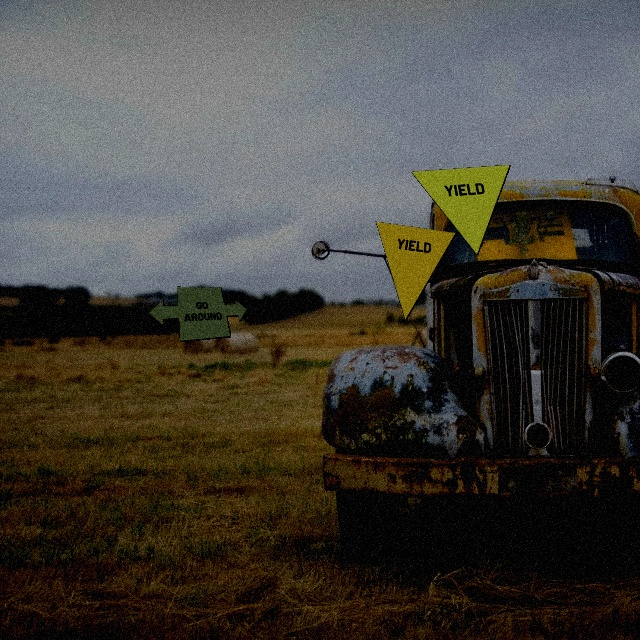GO_AROUND: (147, 286, 248, 342)
YIELD: (410, 164, 511, 256), (375, 221, 457, 322)
